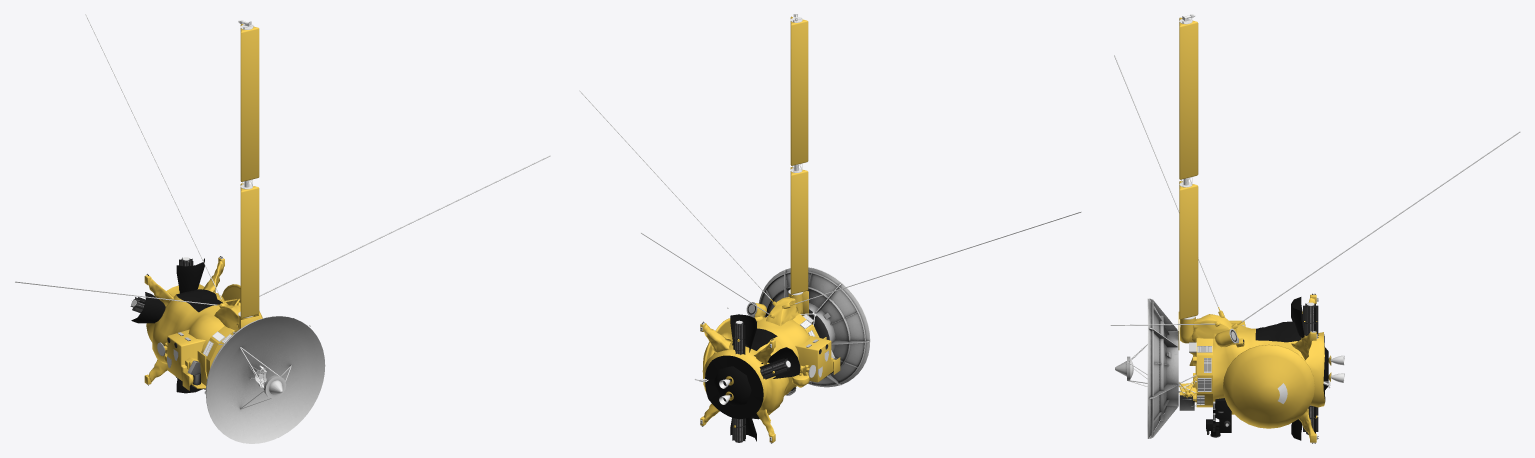
File: cassini.glb
3 views of the same model, side by side, from view 1: azimuth 30°, elevation 25°; view 2: azimuth 150°, elevation 25°; view 3: azimuth 270°, elevation 25° (orthographic). The views are drawn at different scales.
Visible parts, largest first — view 1: BUS, dish, black_krinkle, aluminum, plastic_white; view 2: BUS, dish, black_krinkle, aluminum, RTG, plastic_dark.001; view 3: BUS, foil_gold_h, dish, black_krinkle, aluminum, foil_gold_2, RTG, vents, plastic_white.
Part boxes in pixels (x1,y1,x2,y2): BUS: (144, 24, 260, 390); dish: (204, 316, 325, 443); black_krinkle: (131, 258, 222, 393); aluminum: (15, 14, 550, 409); plastic_white: (157, 332, 286, 398); BUS: (700, 16, 840, 442); dish: (759, 267, 870, 387); black_krinkle: (705, 314, 800, 441); aluminum: (579, 14, 1081, 443); RTG: (700, 303, 828, 443); plastic_dark.001: (735, 322, 790, 442); BUS: (1178, 17, 1331, 442); foil_gold_h: (1223, 344, 1314, 428); dish: (1147, 298, 1178, 438); black_krinkle: (1206, 297, 1328, 440); aluminum: (1110, 14, 1520, 443); foil_gold_2: (1196, 338, 1212, 407); RTG: (1207, 293, 1330, 443); vents: (1189, 342, 1212, 404); plastic_white: (1115, 325, 1244, 412).
Size of what is drawn, in the model's own units: 11 by 8.02 by 7.13.
Materials: 7 (2 with a texture image).
